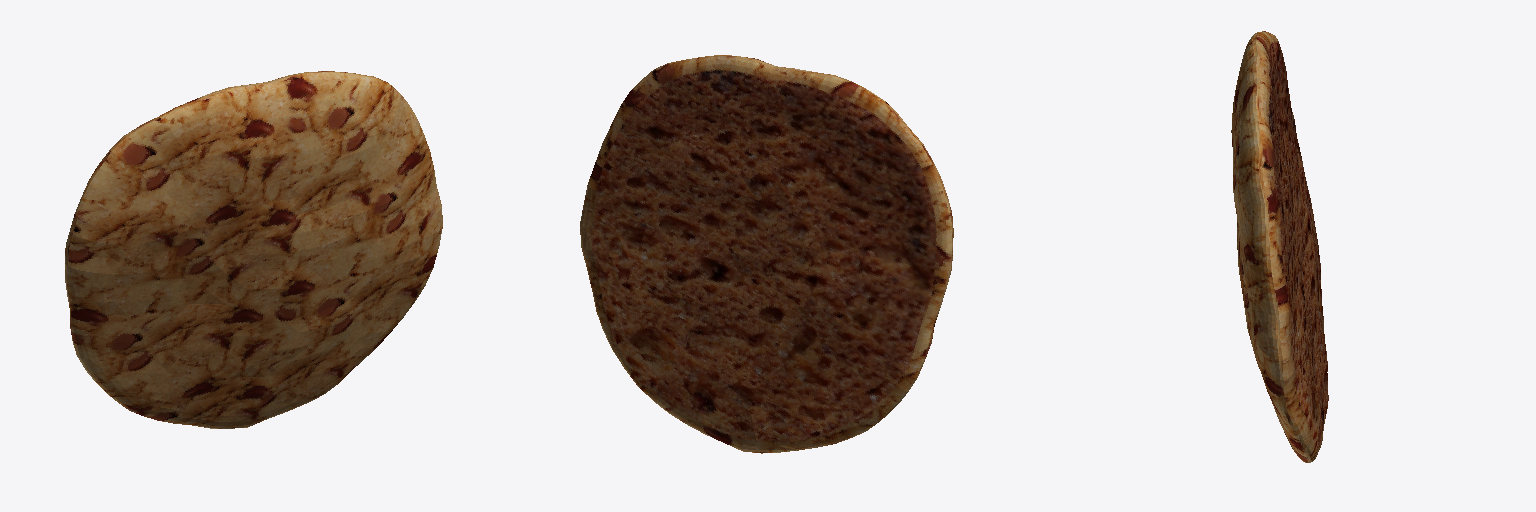
3 views of the same model, side by side, from view 1: azimuth 30°, elevation 25°; view 2: azimuth 150°, elevation 25°; view 3: azimuth 270°, elevation 25° (orthographic).
Visible parts, largest first — view 1: Box001; view 2: Box001; view 3: Box001.
Part boxes in pixels (bbox=[...]): Box001: bbox=[65, 71, 442, 428]; Box001: bbox=[580, 55, 953, 453]; Box001: bbox=[1231, 31, 1328, 462].
Bounding box in the file's own units: 45.96 × 43.42 × 10.34.
1 materials, 1 textured.